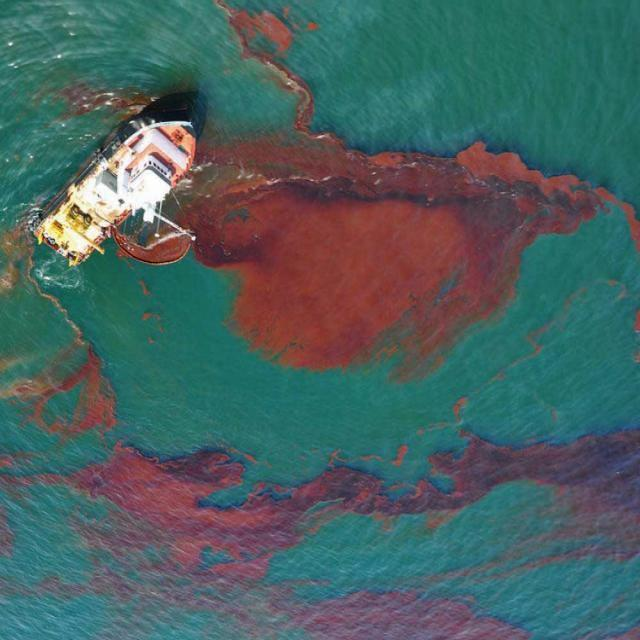oil: (215, 5, 640, 638)
